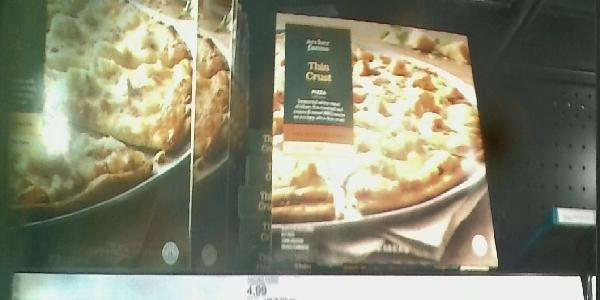pizza1: (268, 14, 494, 270), (1, 1, 193, 270)
